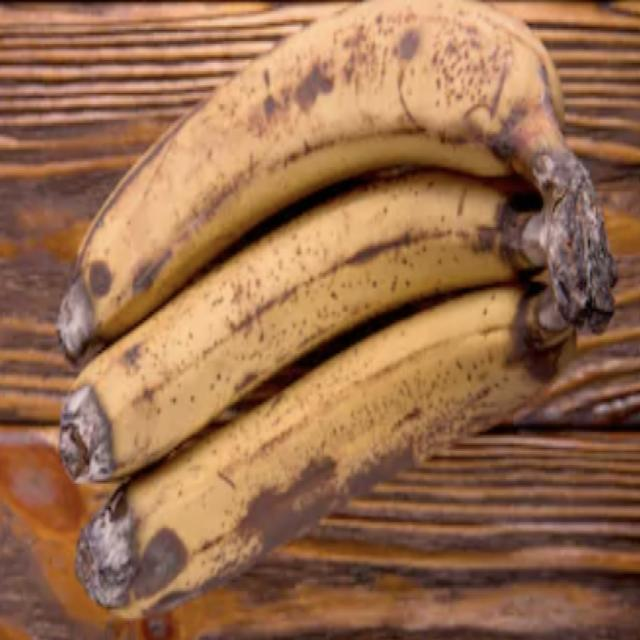banana: (59, 0, 616, 357), (77, 286, 575, 617), (61, 171, 544, 482)
